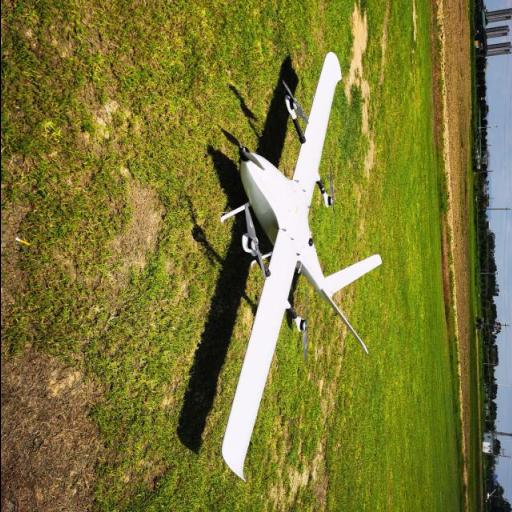uav: (203, 50, 382, 486)
